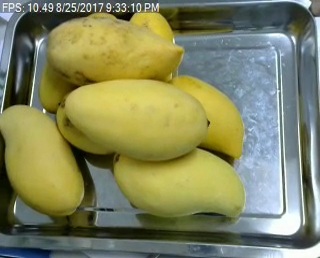Mango: (64, 78, 211, 159), (47, 15, 185, 86), (0, 104, 85, 218), (113, 145, 246, 217), (162, 74, 244, 157), (128, 5, 174, 83), (39, 60, 80, 114)
